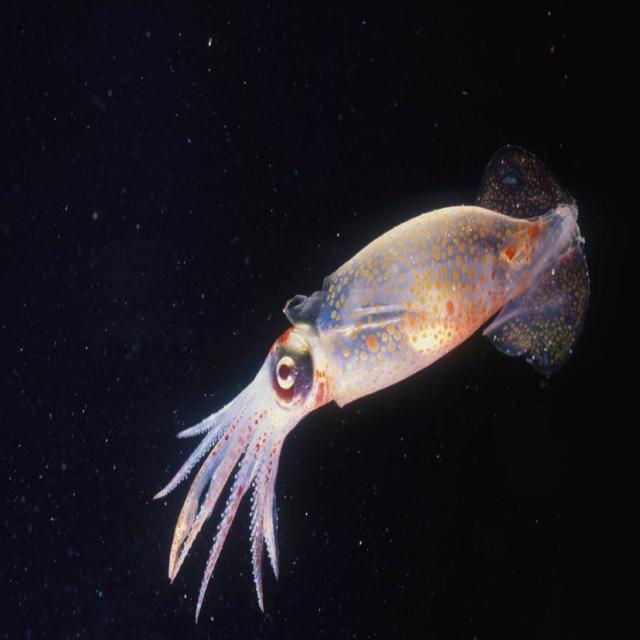SQUID: (123, 129, 614, 640)
